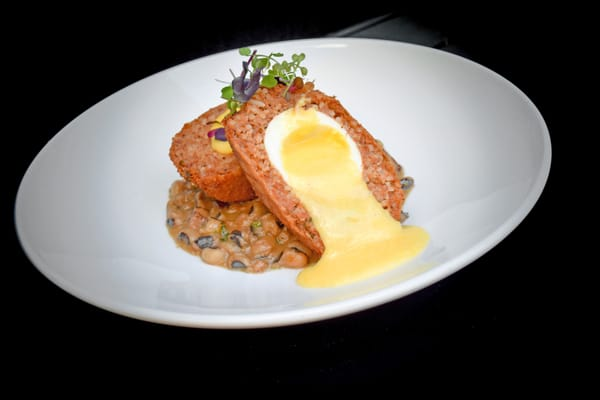curry: (12, 14, 600, 392)
